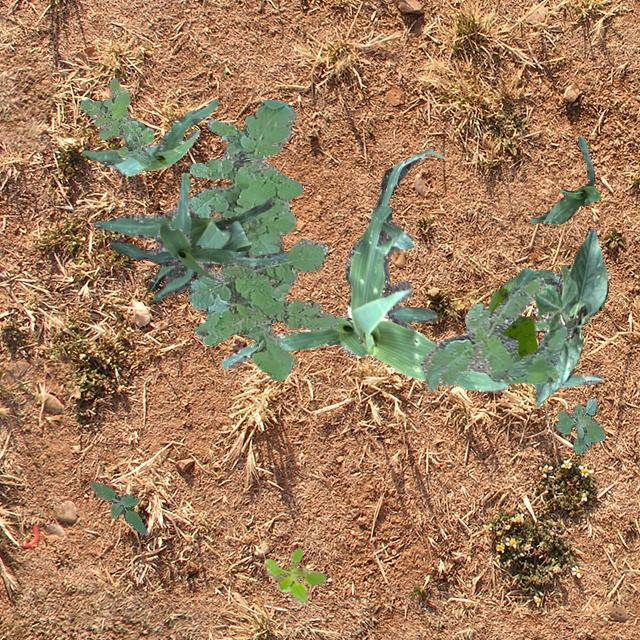crop: (343, 146, 508, 392), (92, 172, 274, 300), (220, 304, 436, 368), (532, 228, 606, 406), (501, 266, 603, 386), (109, 224, 288, 282), (80, 99, 216, 174), (528, 136, 600, 222)
weed: (186, 98, 338, 380), (419, 276, 572, 392), (78, 78, 154, 166), (264, 546, 324, 604), (488, 286, 536, 358), (90, 481, 146, 534), (556, 396, 604, 454)
